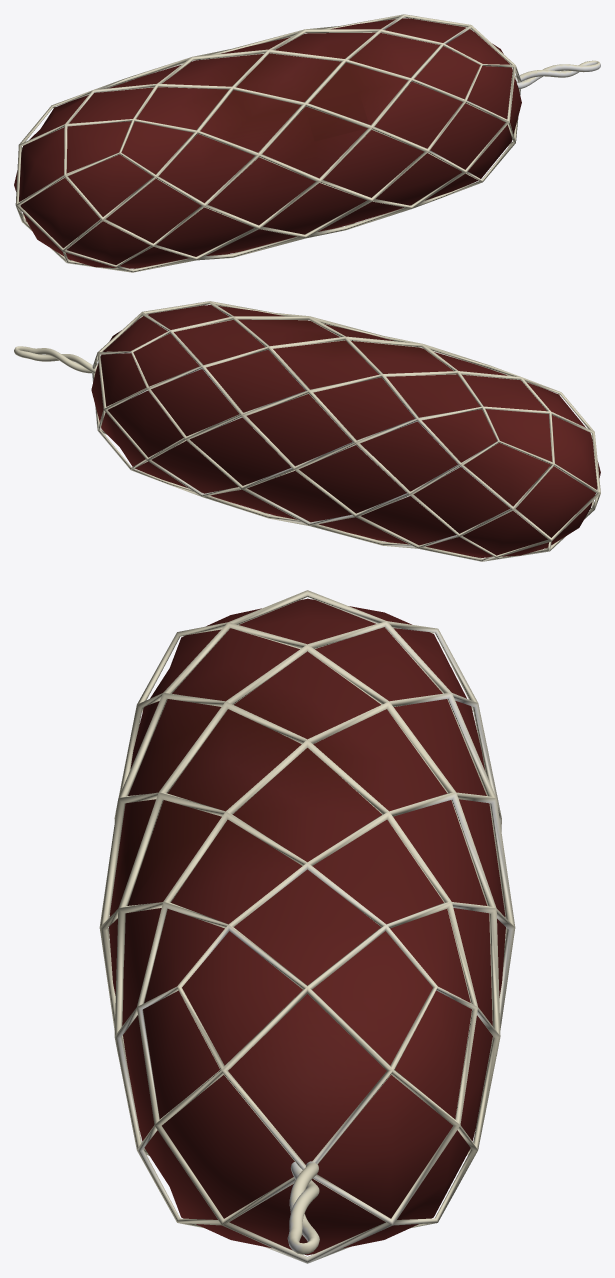
Rendered from Meat-Salami.fbx.
3 renders of one model, top to bottom at view 1: azimuth 30°, elevation 25°; view 2: azimuth 150°, elevation 25°; view 3: azimuth 270°, elevation 25°, orthographic. The views are drawn at different scales.
Visible parts, largest first — view 1: Meat-Salami; view 2: Meat-Salami; view 3: Meat-Salami.
Boxes of the visible parts, bbox=[...] form: Meat-Salami: bbox=[14, 14, 600, 272]; Meat-Salami: bbox=[14, 301, 600, 561]; Meat-Salami: bbox=[99, 590, 515, 1263].
Bounding box in the file's own units: 1662 × 512 × 513.
